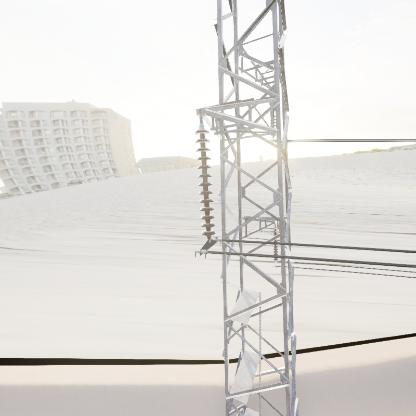insulator: (193, 126, 218, 244), (272, 228, 279, 261)
